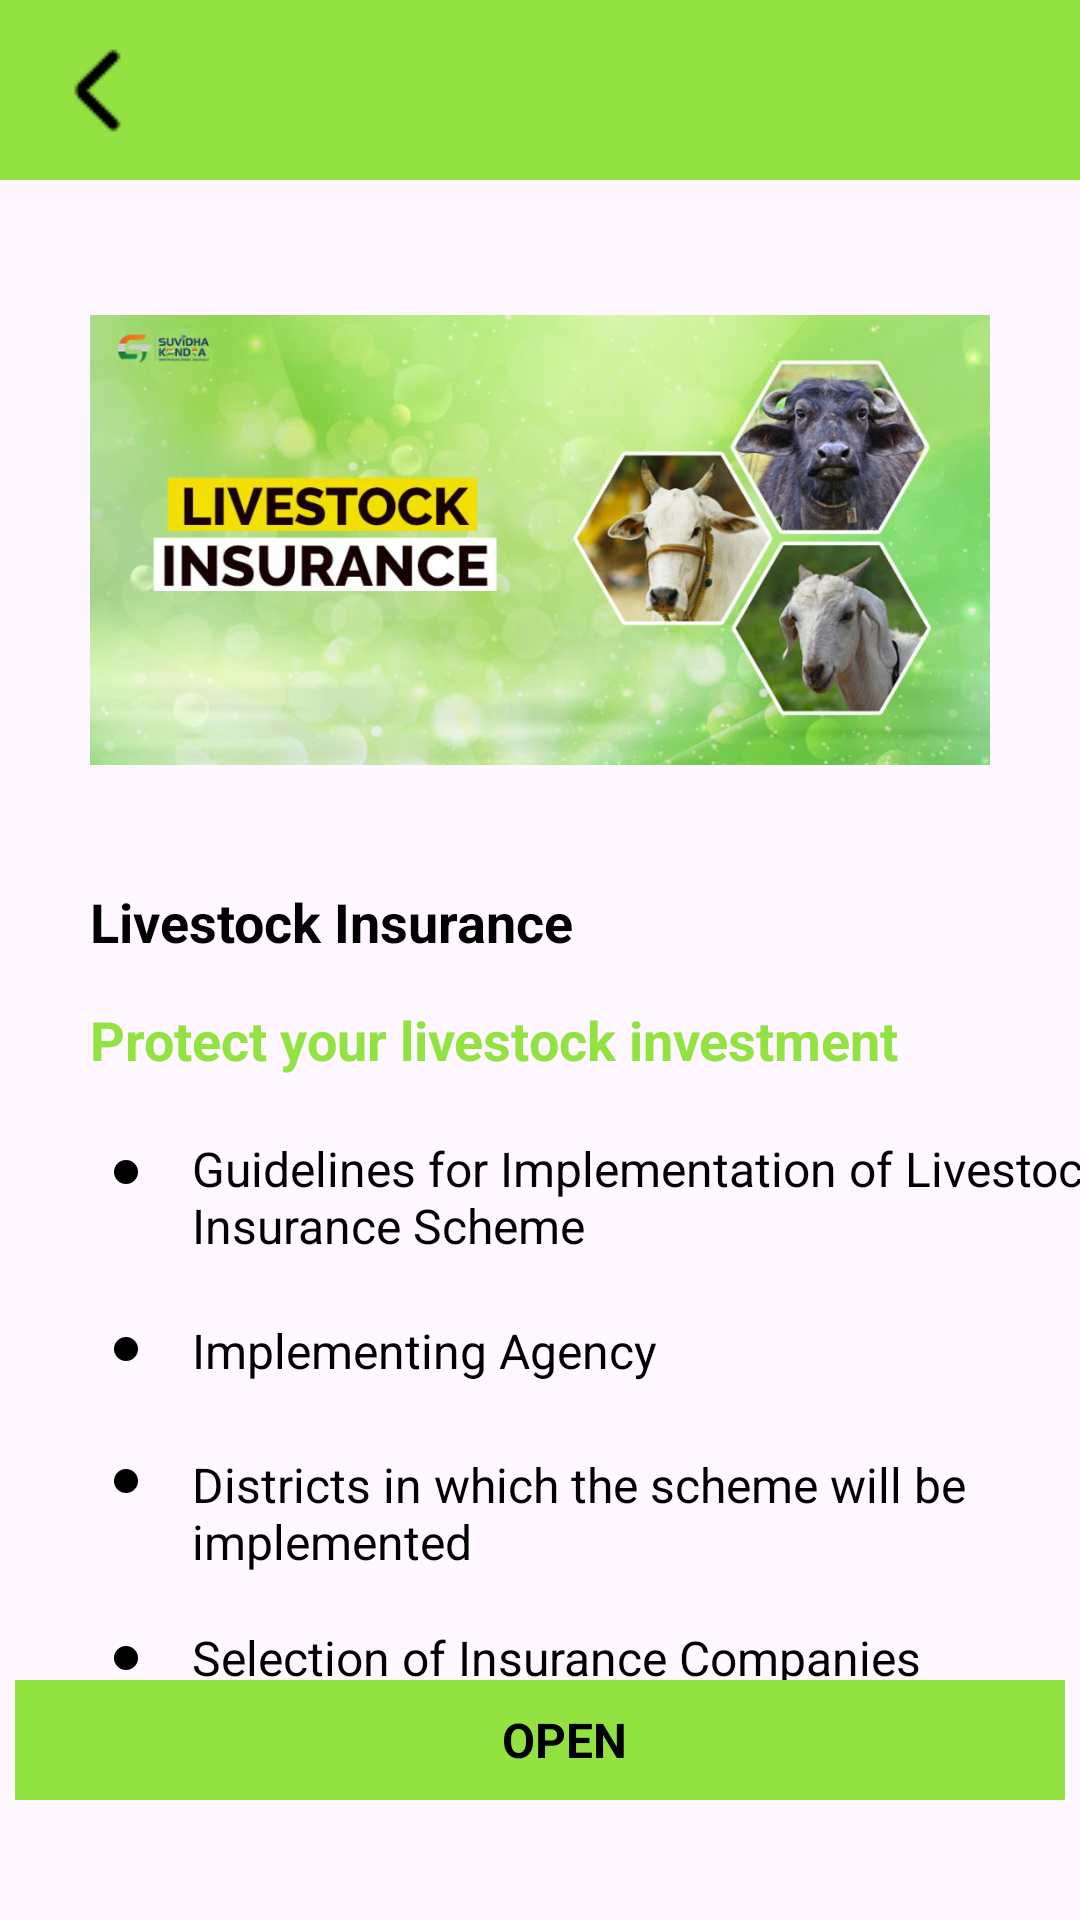

Point at icon controls on the screen. Image size 1080px×1920px, points as [x,y].
back arrow: [97,90]
